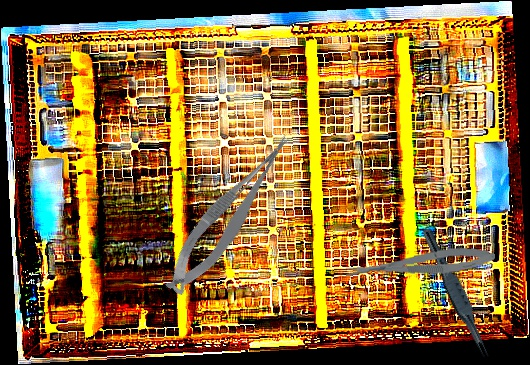Micro Scissor: (149, 128, 312, 303), (344, 243, 496, 283)
Tissue Forceps: (413, 225, 498, 362)
